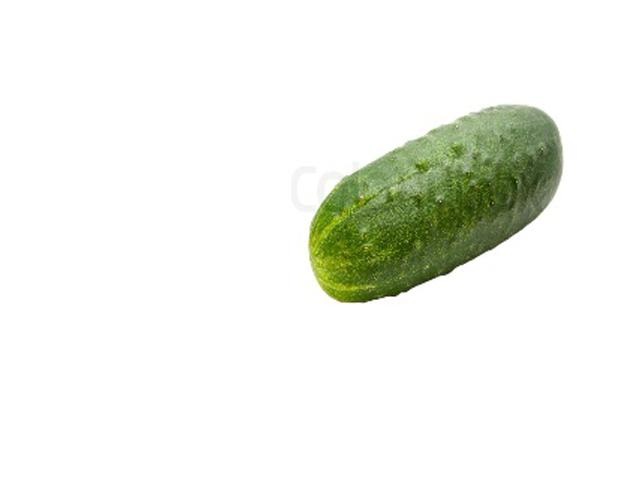cucumber: (308, 103, 563, 300)
